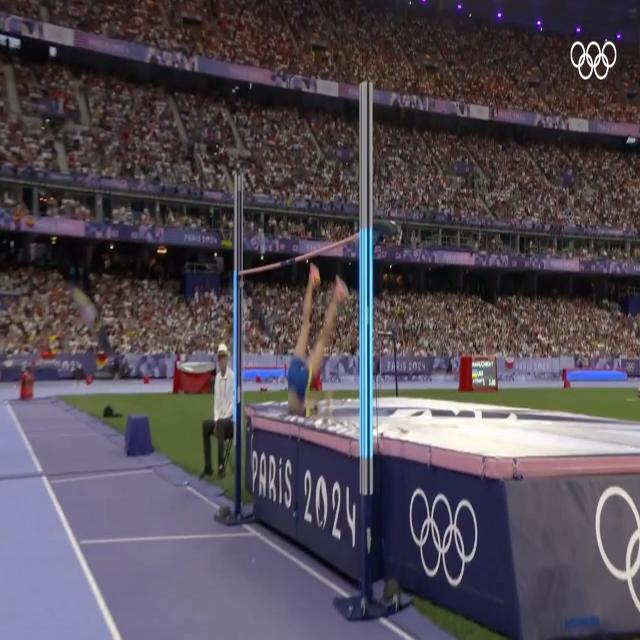land: (287, 262, 348, 419)
